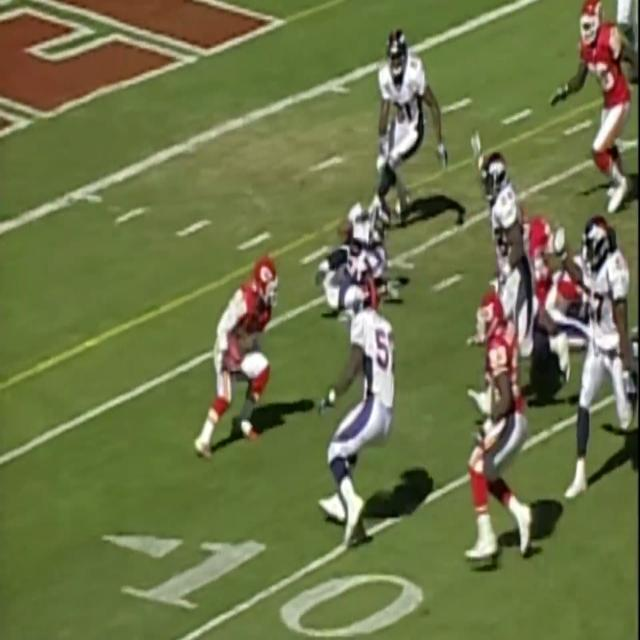football: (225, 326, 245, 368)
players: (563, 172, 634, 616), (323, 263, 404, 544), (190, 252, 282, 468), (468, 291, 536, 568), (561, 0, 635, 212), (372, 29, 444, 234), (477, 131, 535, 362)
